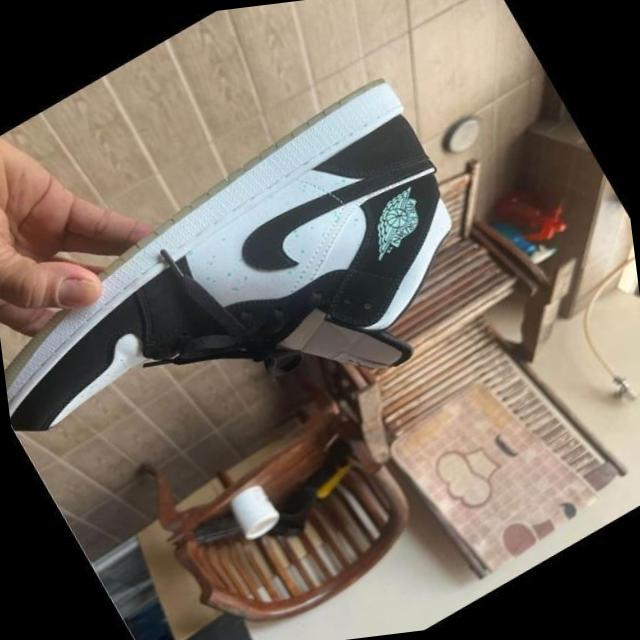nike_fake_jordan: (0, 59, 546, 557)
